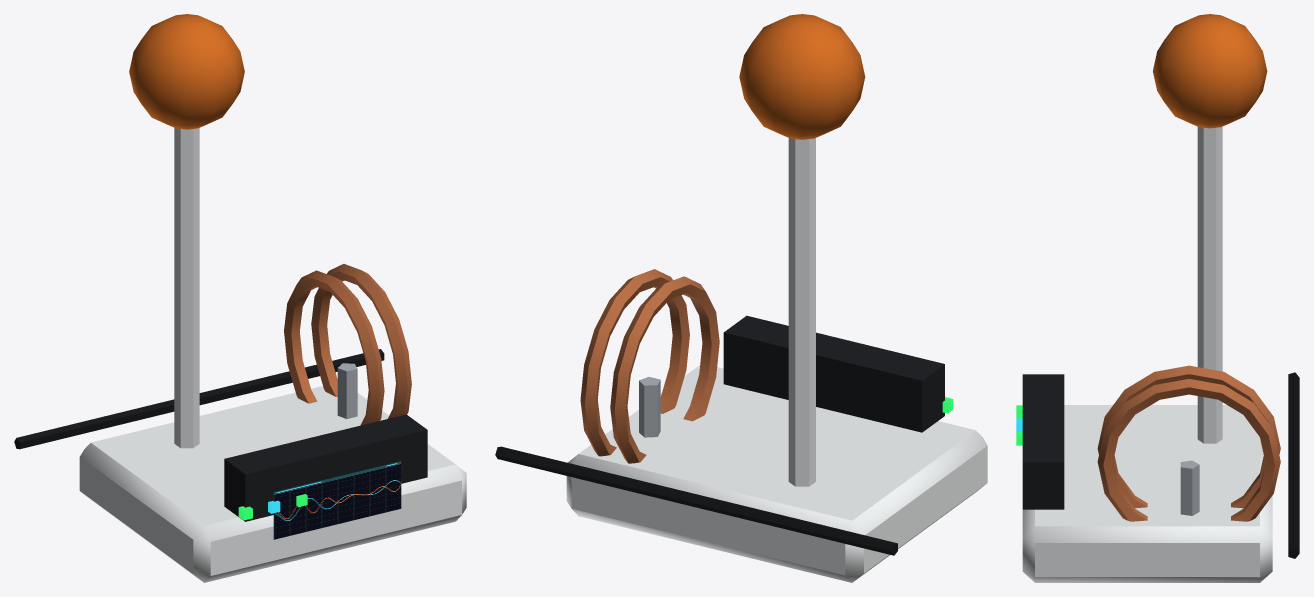
The model's file is sciinstrument_magnetometer.glb.
3 views of the same model, side by side, from view 1: azimuth 30°, elevation 25°; view 2: azimuth 150°, elevation 25°; view 3: azimuth 270°, elevation 25° (orthographic). The views are drawn at different scales.
Parts seen in each view (by area): view 1: sciinstrument_magnetometer; view 2: sciinstrument_magnetometer; view 3: sciinstrument_magnetometer.
Boxes of the visible parts, bbox=[...] form: sciinstrument_magnetometer: bbox=[14, 14, 466, 582]; sciinstrument_magnetometer: bbox=[495, 14, 987, 582]; sciinstrument_magnetometer: bbox=[1016, 14, 1299, 582].
Size of the model in its own units: 0.4 by 0.505 by 0.272.
Materials: 10 (1 with a texture image).
